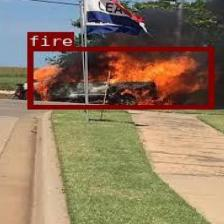fire: (27, 47, 213, 108)
